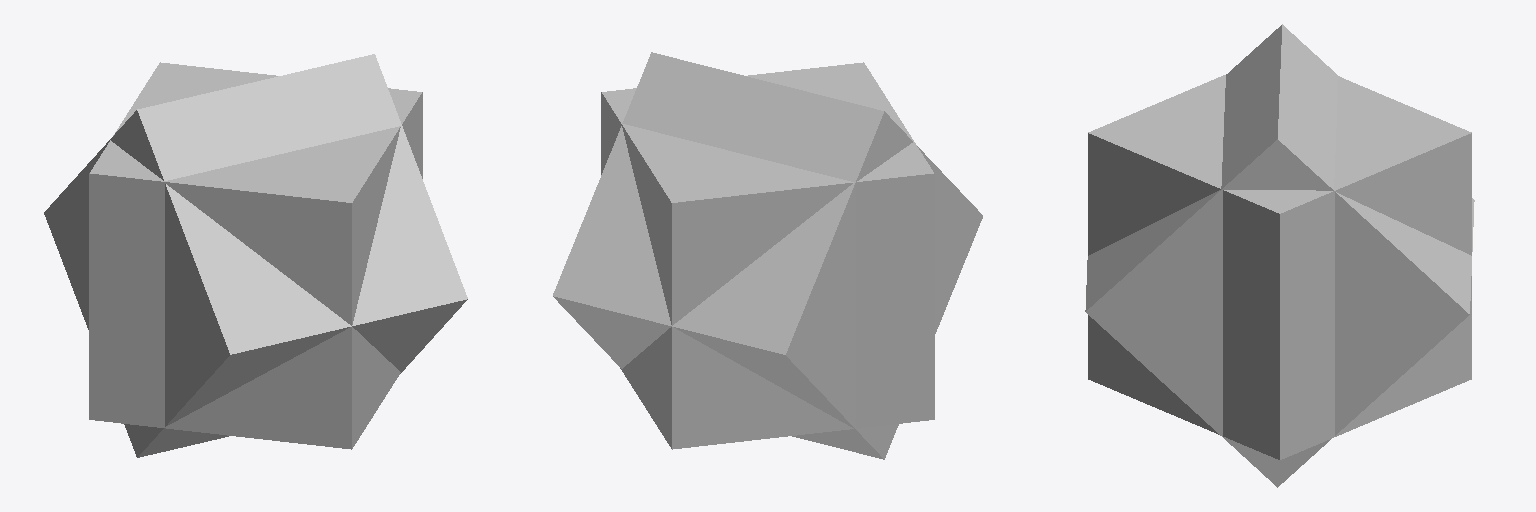
The model's file is christmas_star.obj.
3 views of the same model, side by side, from view 1: azimuth 30°, elevation 25°; view 2: azimuth 150°, elevation 25°; view 3: azimuth 270°, elevation 25° (orthographic).
Visible parts, largest first — view 1: Cube_Cube.001; view 2: Cube_Cube.001; view 3: Cube_Cube.001.
Part boxes in pixels (bbox=[...]): Cube_Cube.001: bbox=[44, 54, 467, 457]; Cube_Cube.001: bbox=[553, 52, 982, 459]; Cube_Cube.001: bbox=[1085, 24, 1474, 487].
Size of the model in its own units: 0.396 by 0.396 by 0.4007.